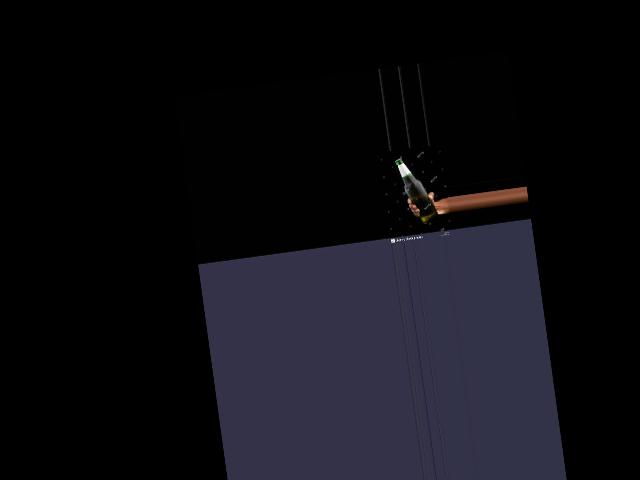beer: (394, 153, 439, 227)
